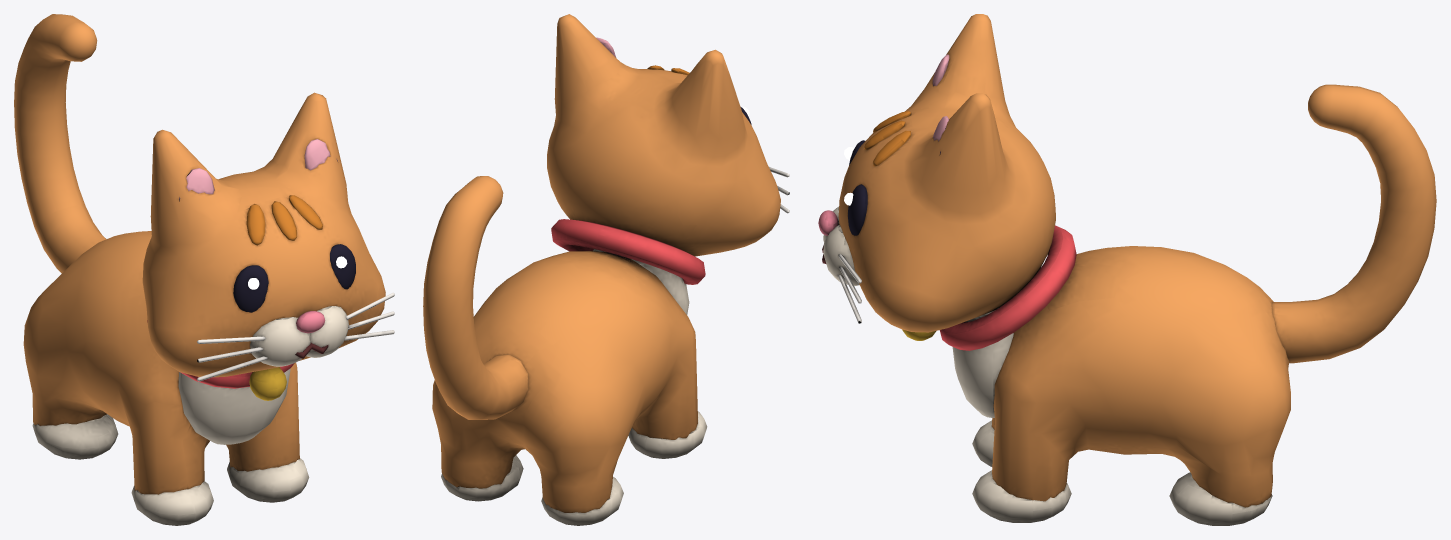
The model's file is pet_cat.glb.
3 renders of one model, left to right at view 1: azimuth 30°, elevation 25°; view 2: azimuth 150°, elevation 25°; view 3: azimuth 270°, elevation 25°, orthographic. The views are drawn at different scales.
Parts seen in each view (by area): view 1: Head, pet_cat, Tail; view 2: pet_cat, Head, Tail; view 3: pet_cat, Head, Tail.
Boxes of the visible parts, x1,y1,x2,y2 form: Head: (142,92,394,381); pet_cat: (23,231,309,525); Tail: (14,14,106,273); pet_cat: (432,219,707,525); Head: (547,14,789,256); Tail: (423,176,528,419); pet_cat: (902,225,1290,525); Head: (818,14,1055,332); Tail: (1272,84,1436,363).
Size of the model in its own units: 0.3012 by 0.5259 by 0.671.
11 materials, 10 textured.
